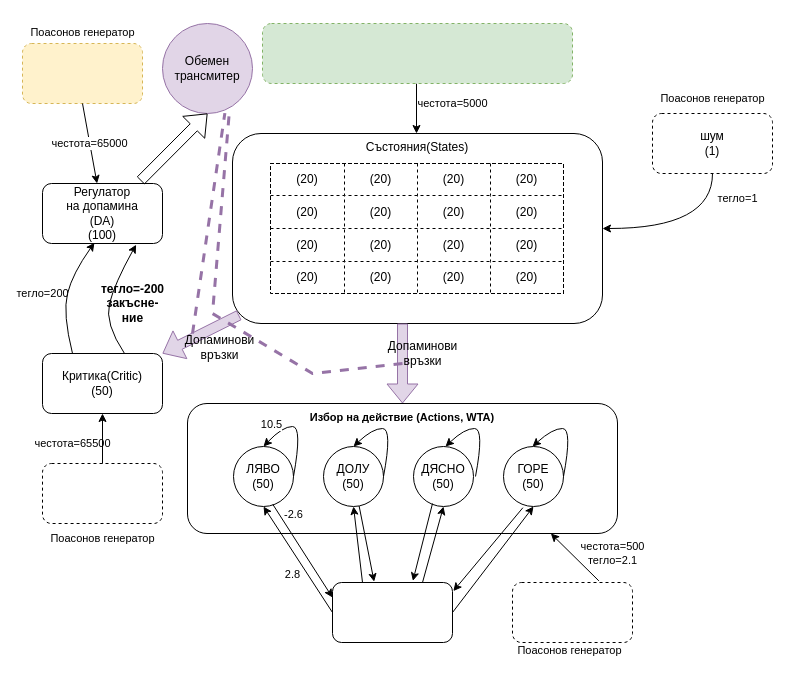
The diagram is 795 pixels wide and 682 high, and some of its shapes have lost their labels. Each missing label, with the centre of its shape:
Инхибиточна група (wta_inh) (50): pixel 392 612
Стимул на входа (1): pixel 417 53
стимулация за поощрение (1): pixel 82 73
шум на действията (wta_noise): pixel 572 612
шум на критиката (1): pixel 102 493
